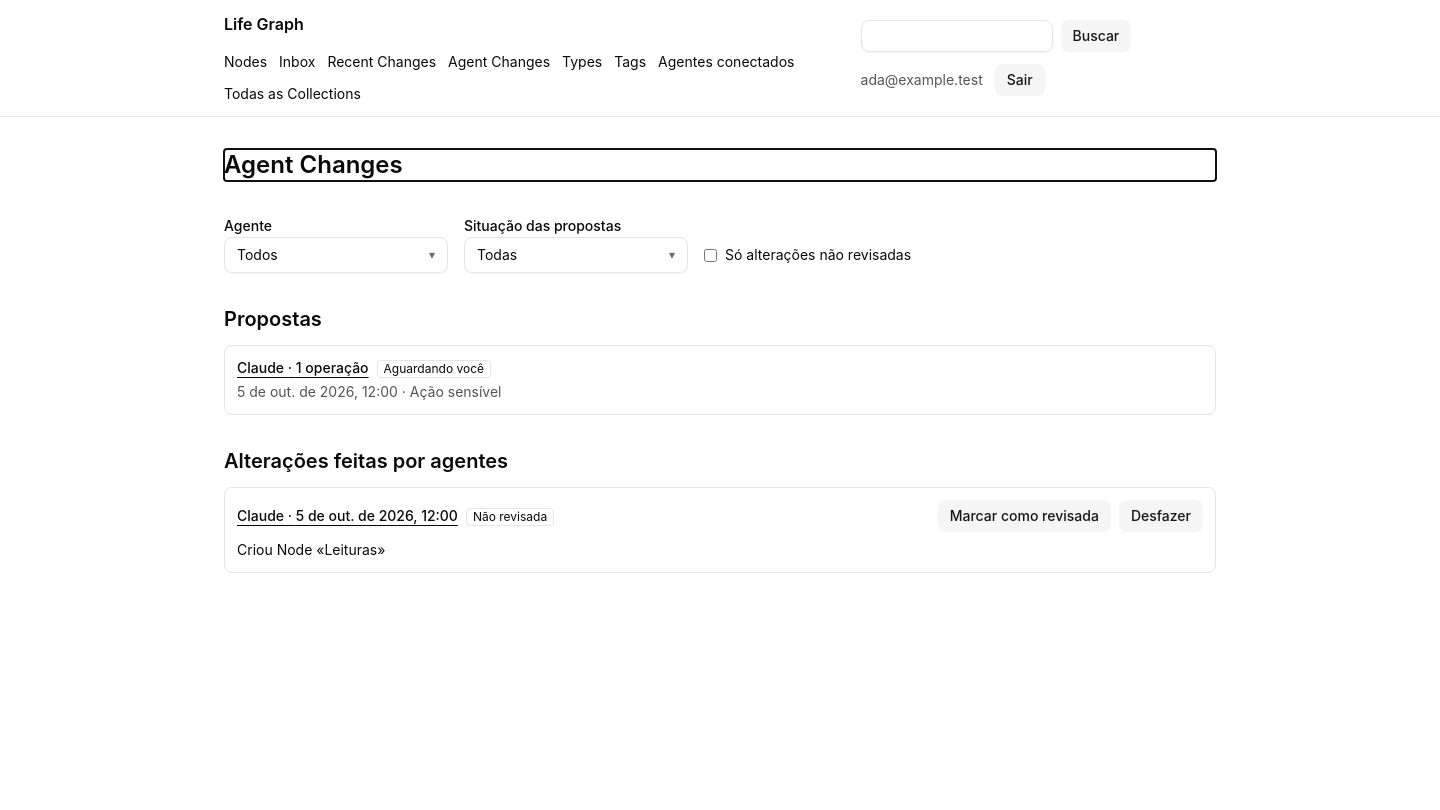
Test case: Agent Changes › says on the card when marking it as reviewed failed
Click the button "Marcar como revisada" at (1024, 516), box [938,500,1111,532]
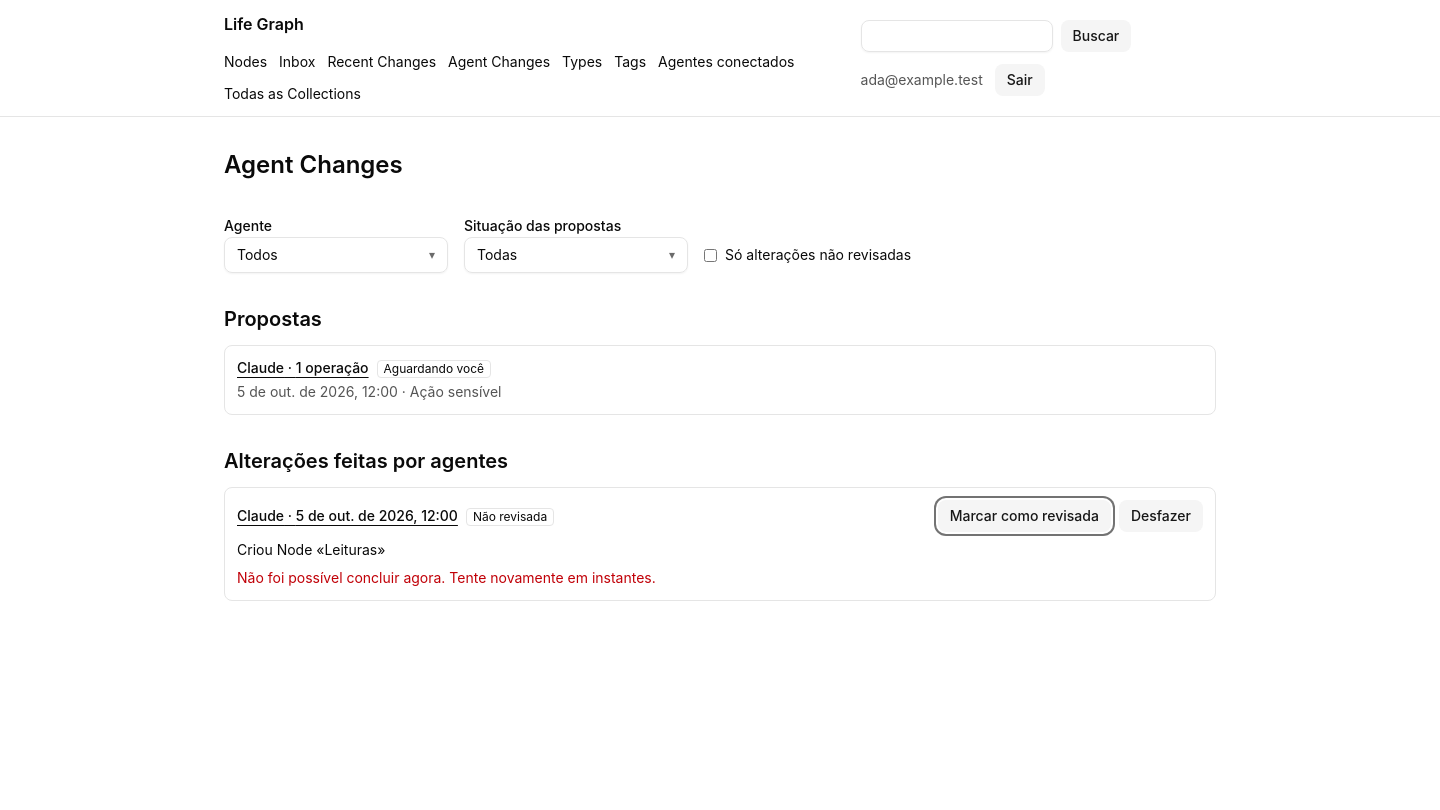
Expected: the text "Não revisada" is shown, [466,508,554,526]
Expected: the message reads "Não foi possível concluir agora. Tente novamente em instantes.", [237,569,656,586]
